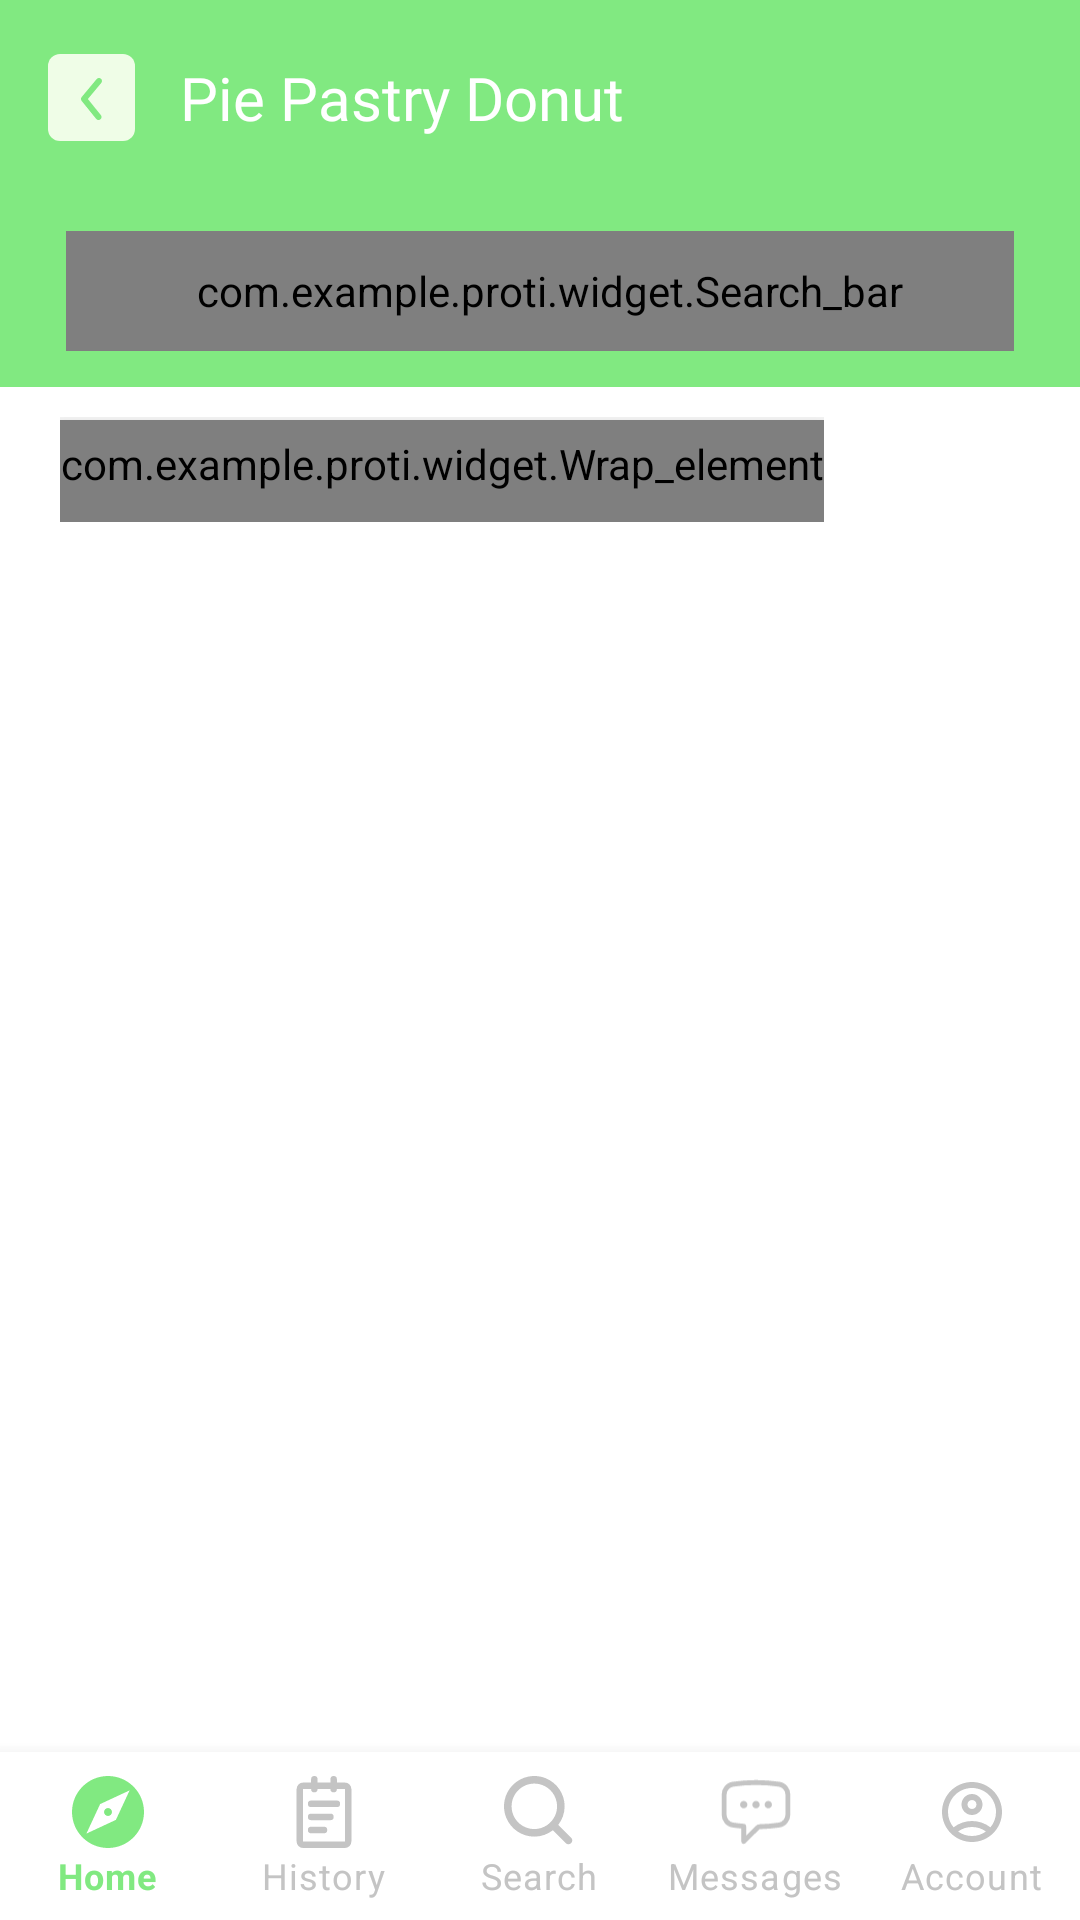

Locate icon controls on the screen. Image size 1080 × 1920, boxes as (x1, y1, x2, y2).
back: (48, 54, 135, 141)
